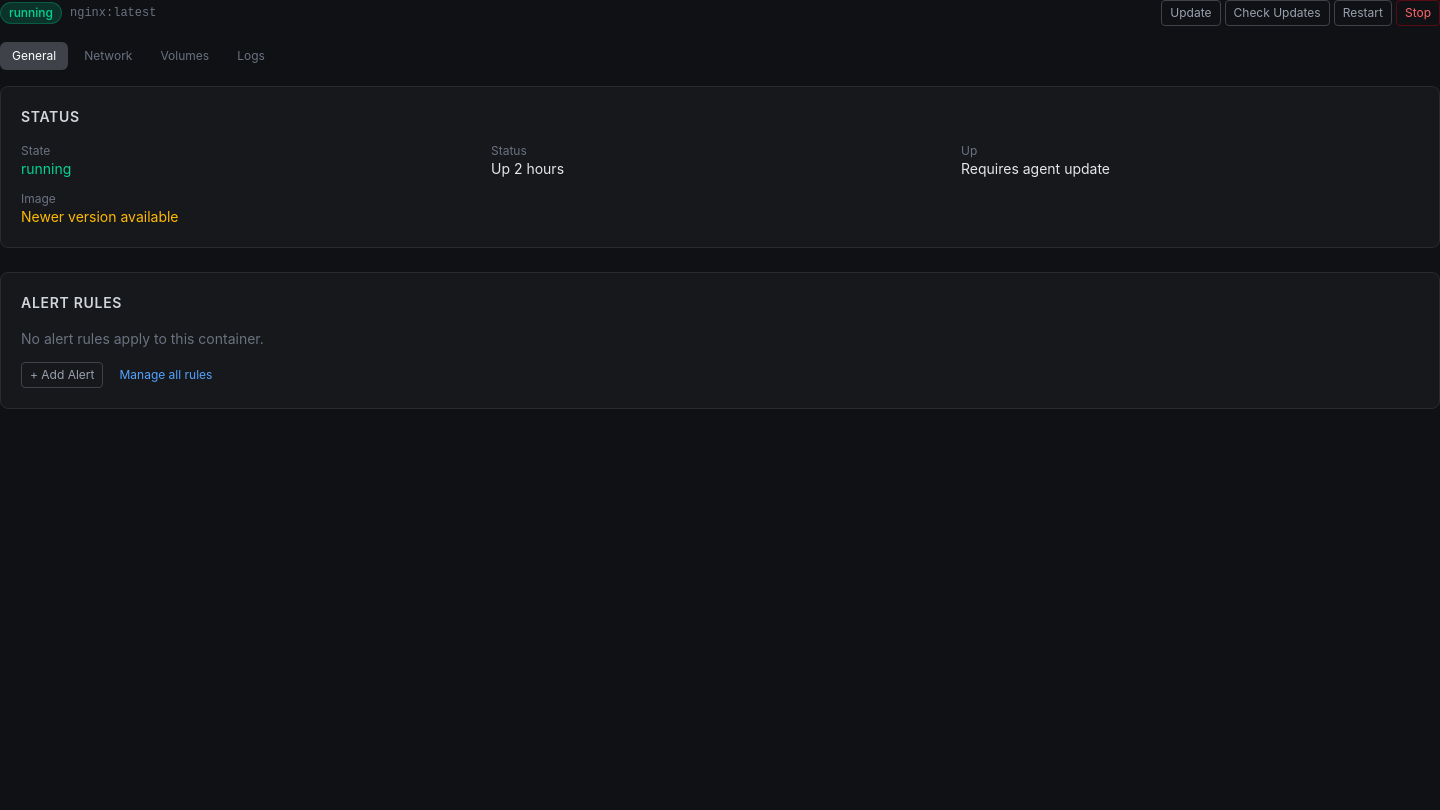
[AC-112] stop and die during a tracked update show Updating, not exited › keeps the running badge and shows Updating after a stop event
The width and height of the screenshot is (1440, 810).
Click the button "Update" at point(1191, 13), box [1161, 0, 1220, 26]
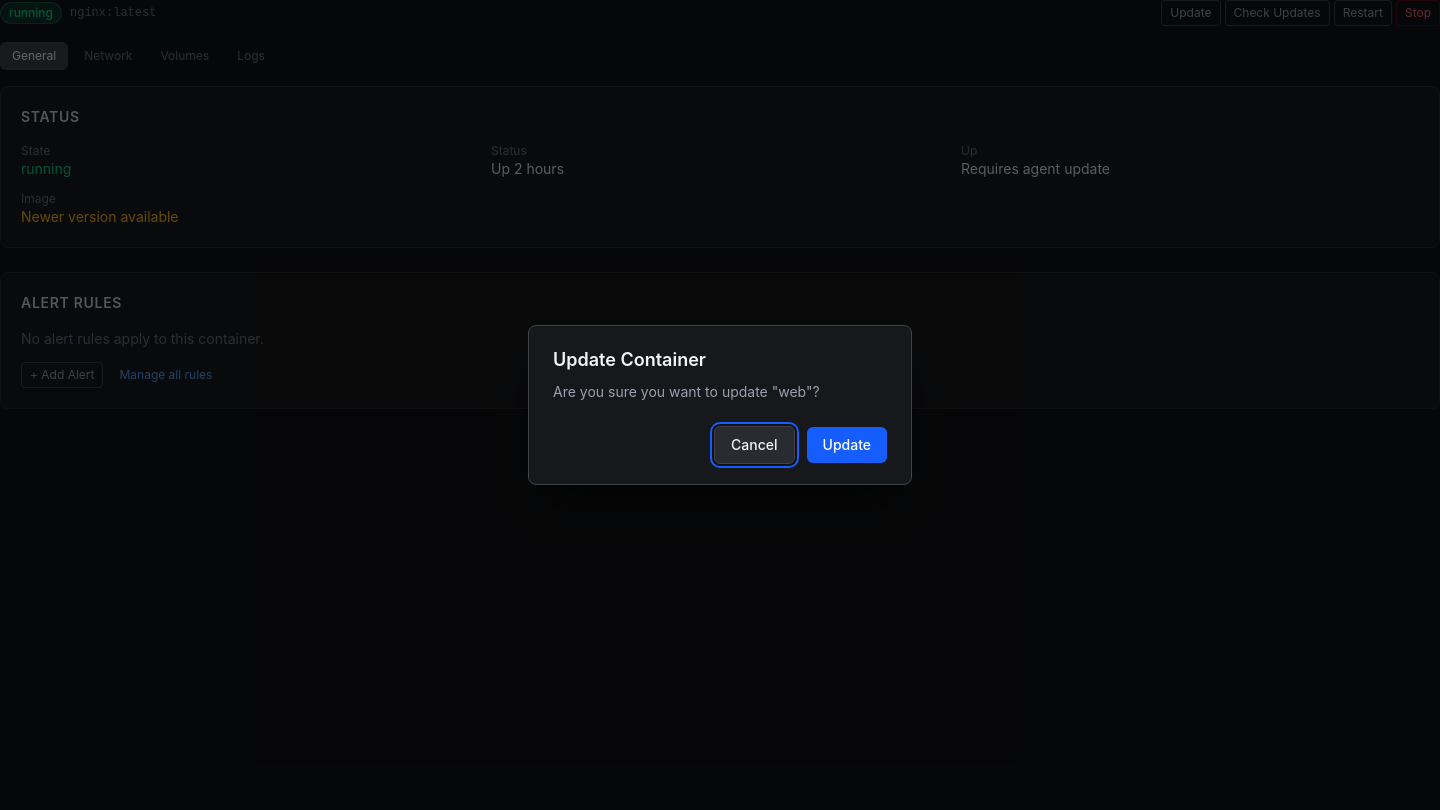
Click the button "Update" at point(847, 445), box [806, 427, 887, 463]
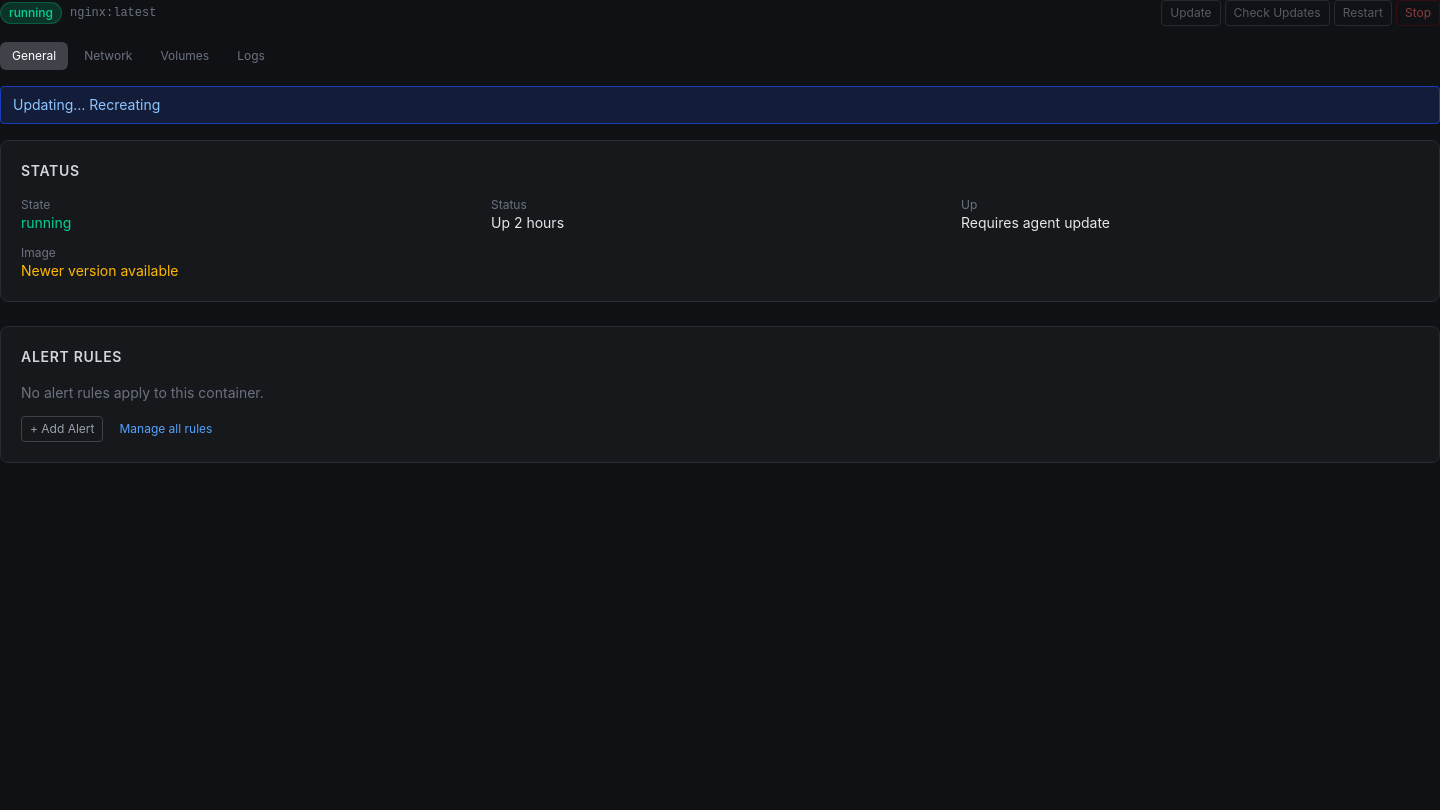
expect the text "running" next to "nginx:latest" is shown: met, box [9, 5, 53, 20]
expect the message with test id "command-status" reads "Updating… Recreating": met, box [13, 96, 160, 113]
